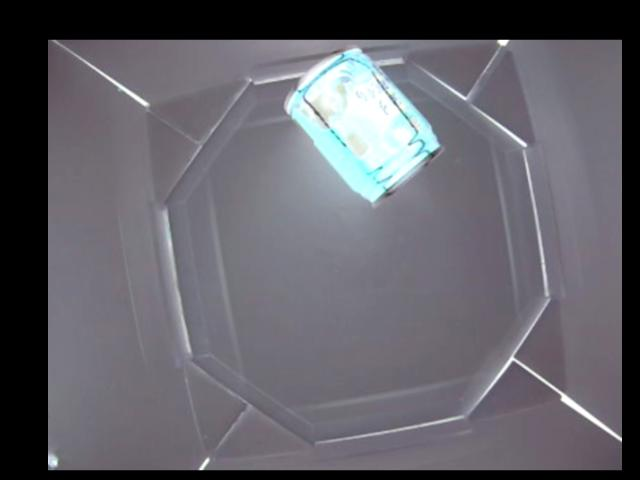Bottle: (282, 49, 440, 204)
